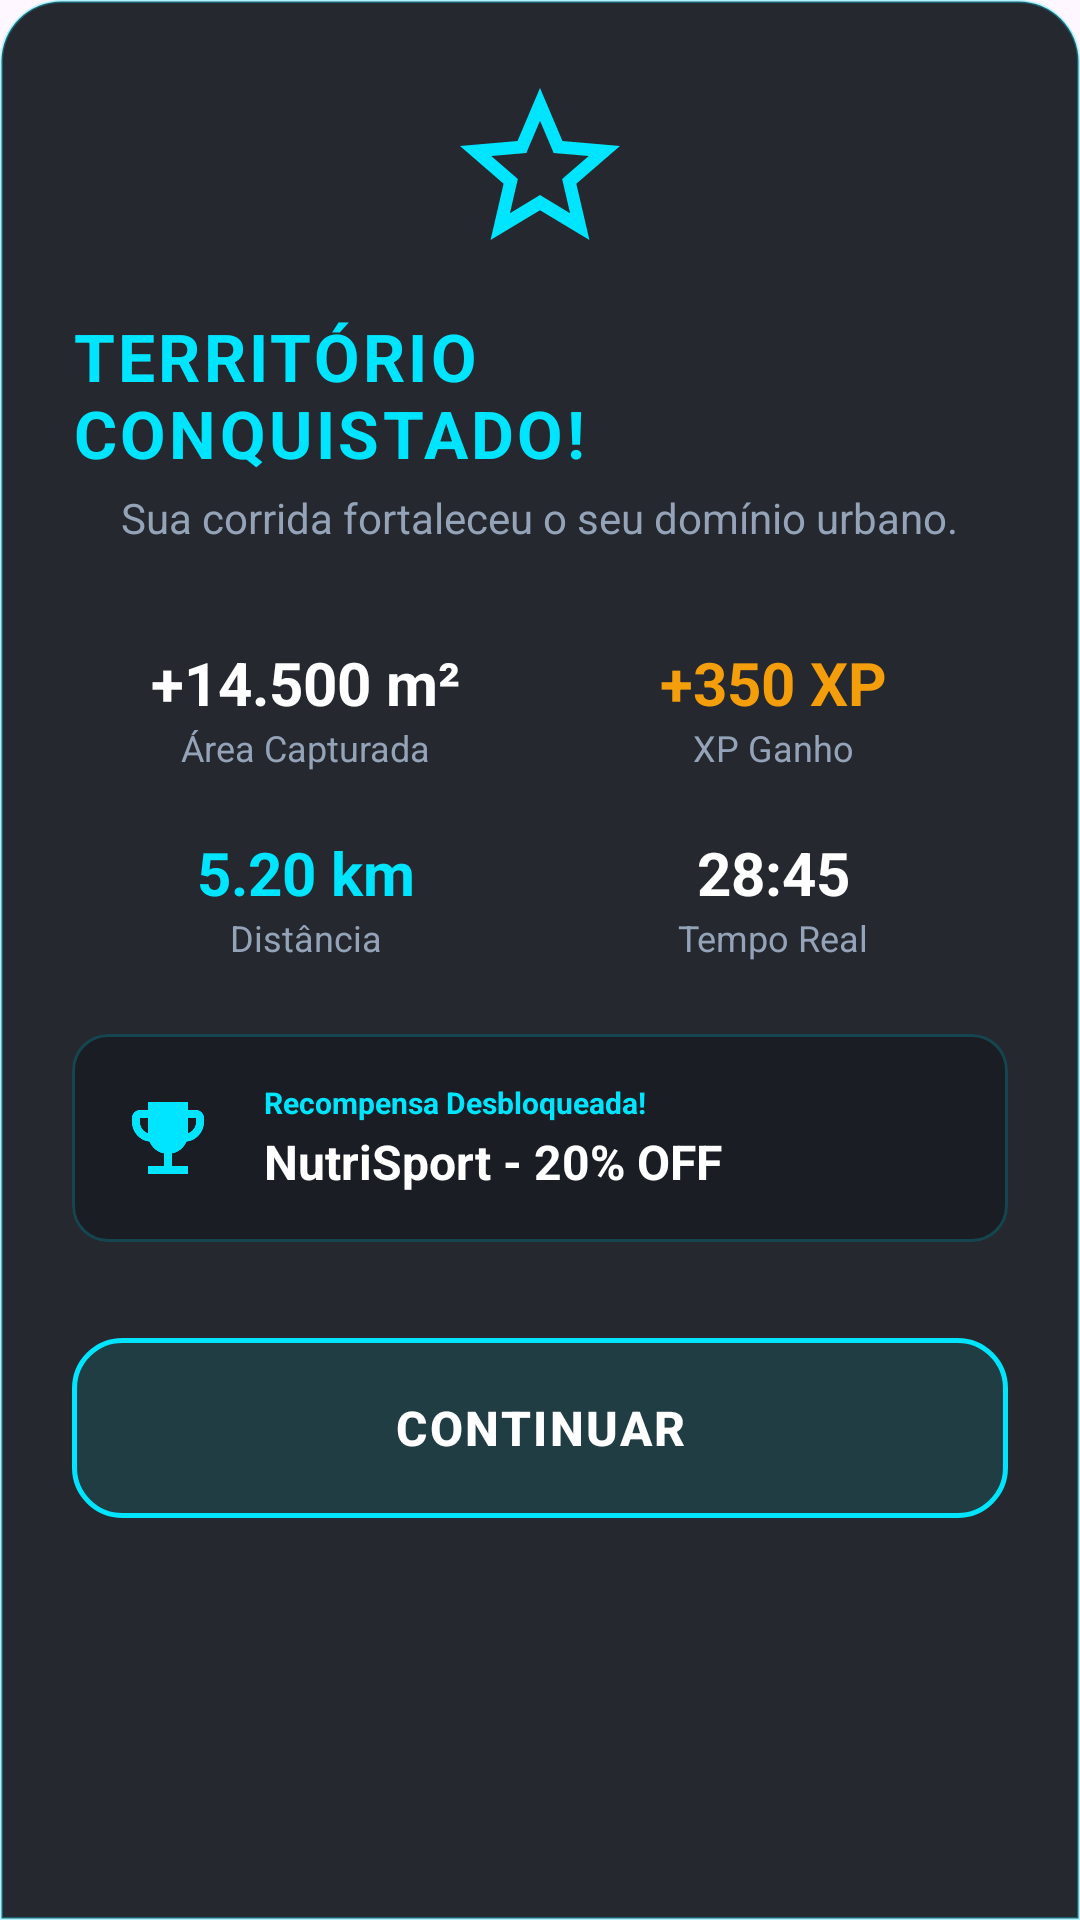

Screen size 1080*1920. Icon name, then its box in pixels as (x1, y1, x2, y2):
Emblema de Vitória: (460, 88, 620, 240)
